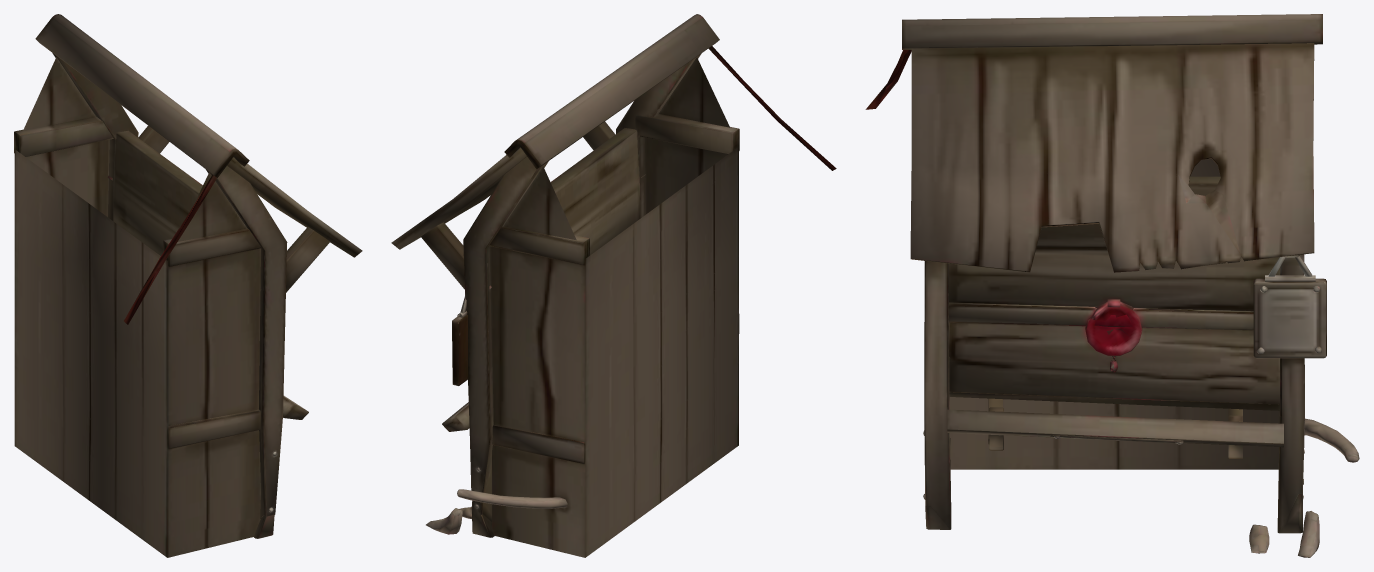
Rendered from stall_boarded.glb.
3 views of the same model, side by side, from view 1: azimuth 30°, elevation 25°; view 2: azimuth 150°, elevation 25°; view 3: azimuth 270°, elevation 25° (orthographic). The views are drawn at different scales.
Parts seen in each view (by area): view 1: model; view 2: model; view 3: model.
Part boxes in pixels (left/top/right/bottom): model: left=14, top=14, right=362, bottom=557; model: left=391, top=14, right=836, bottom=557; model: left=865, top=14, right=1359, bottom=557.
Size of the model in its own units: 0.6595 by 1 by 0.9217.
Materials: 1 (1 with a texture image).
